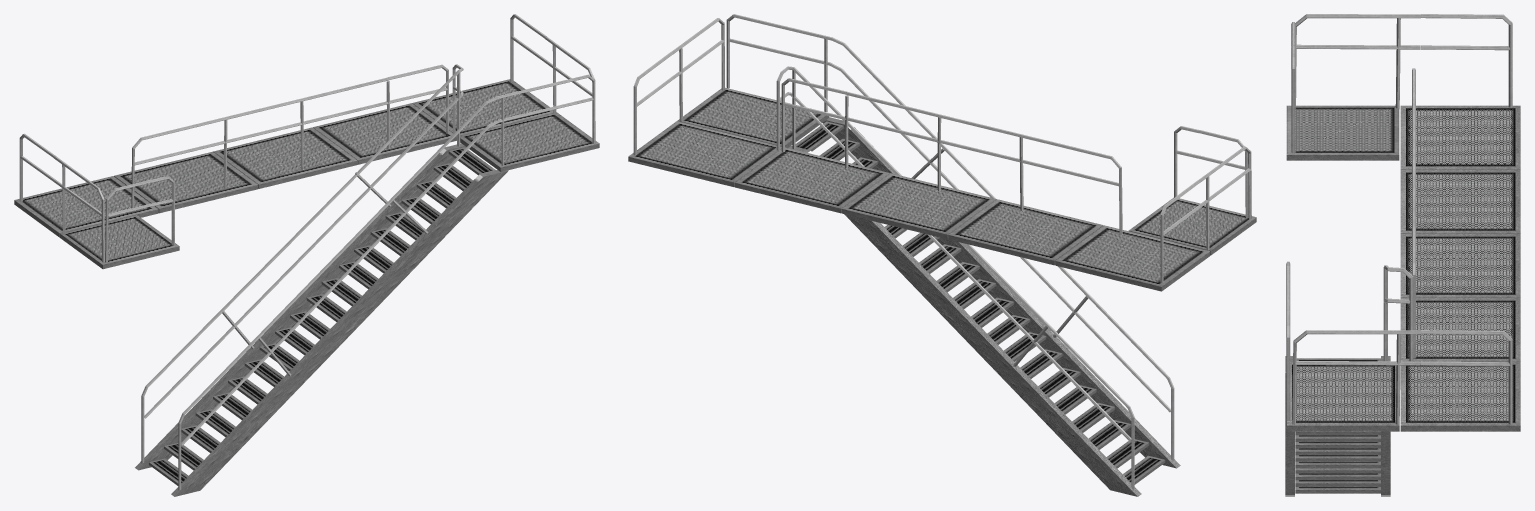
The model's file is d_stairs_a_base_1x.FBX.
3 views of the same model, side by side, from view 1: azimuth 30°, elevation 25°; view 2: azimuth 150°, elevation 25°; view 3: azimuth 270°, elevation 25° (orthographic). The views are drawn at different scales.
Parts seen in each view (by area): view 1: d_stairs_a_base_1x; view 2: d_stairs_a_base_1x; view 3: d_stairs_a_base_1x.
Boxes of the visible parts, x1=… form: d_stairs_a_base_1x: x1=14, y1=14, x2=599, y2=496; d_stairs_a_base_1x: x1=628, y1=14, x2=1256, y2=496; d_stairs_a_base_1x: x1=1285, y1=14, x2=1520, y2=496.
Bounding box in the file's own units: 20.83 × 6.46 × 12.83.
